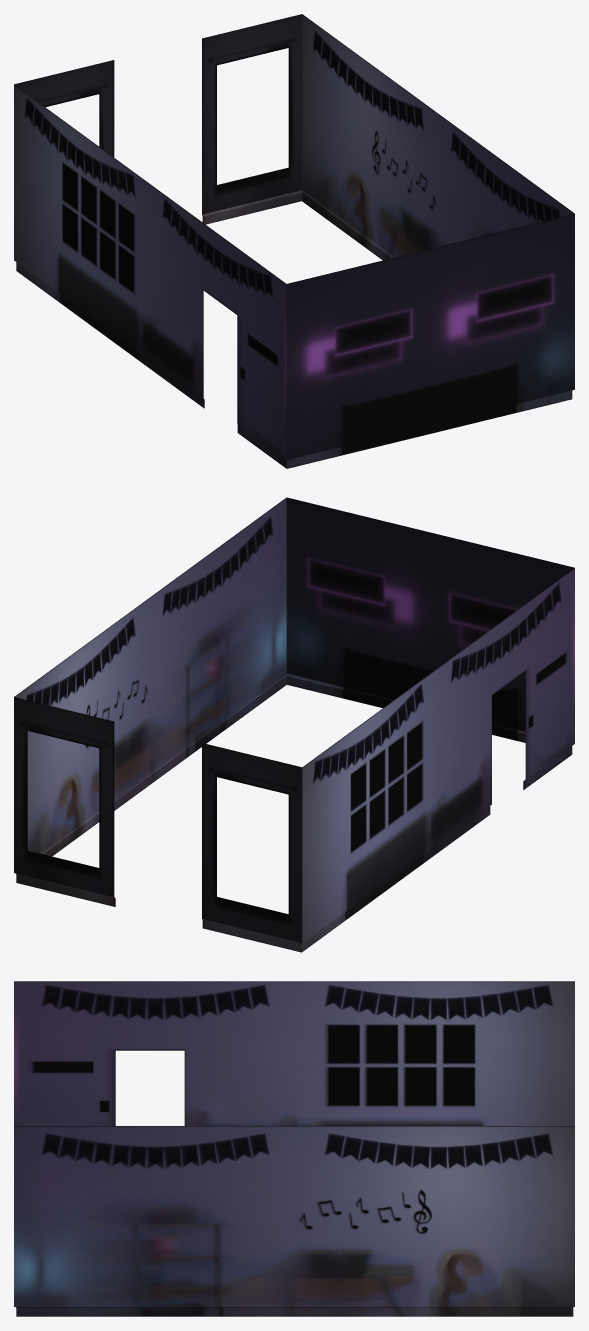
Rendered from Walls.obj.
The picture shows the model from 3 angles, top to bottom: view 1: azimuth 30°, elevation 25°; view 2: azimuth 150°, elevation 25°; view 3: azimuth 270°, elevation 25°; orthographic projection. The views are drawn at different scales.
Parts seen in each view (by area): view 1: Object_36; view 2: Object_36; view 3: Object_36.
Boxes of the visible parts, left/top/right/bottom form: Object_36: left=14, top=14, right=574, bottom=468; Object_36: left=14, top=497, right=574, bottom=952; Object_36: left=14, top=981, right=574, bottom=1316.
Bounding box in the file's own units: 5.63 × 3.47 × 9.22.
1 material, 1 textured.
